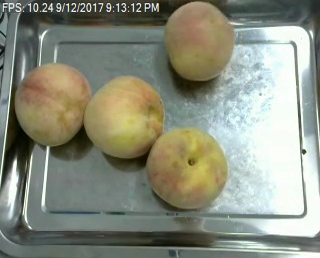Peach: (146, 126, 229, 209), (82, 74, 163, 158), (13, 61, 90, 146), (165, 0, 234, 81)
